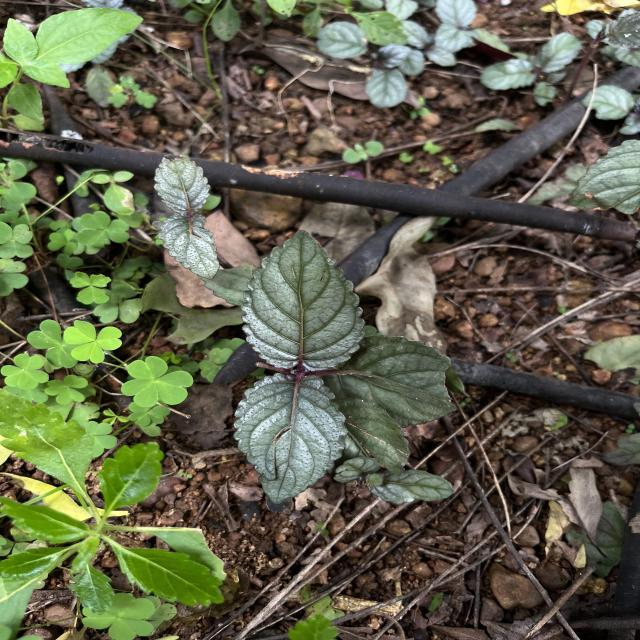Hemigraphis colorata: (238, 226, 368, 375), (231, 369, 350, 506), (322, 332, 457, 429), (150, 215, 222, 282), (152, 153, 213, 214)
